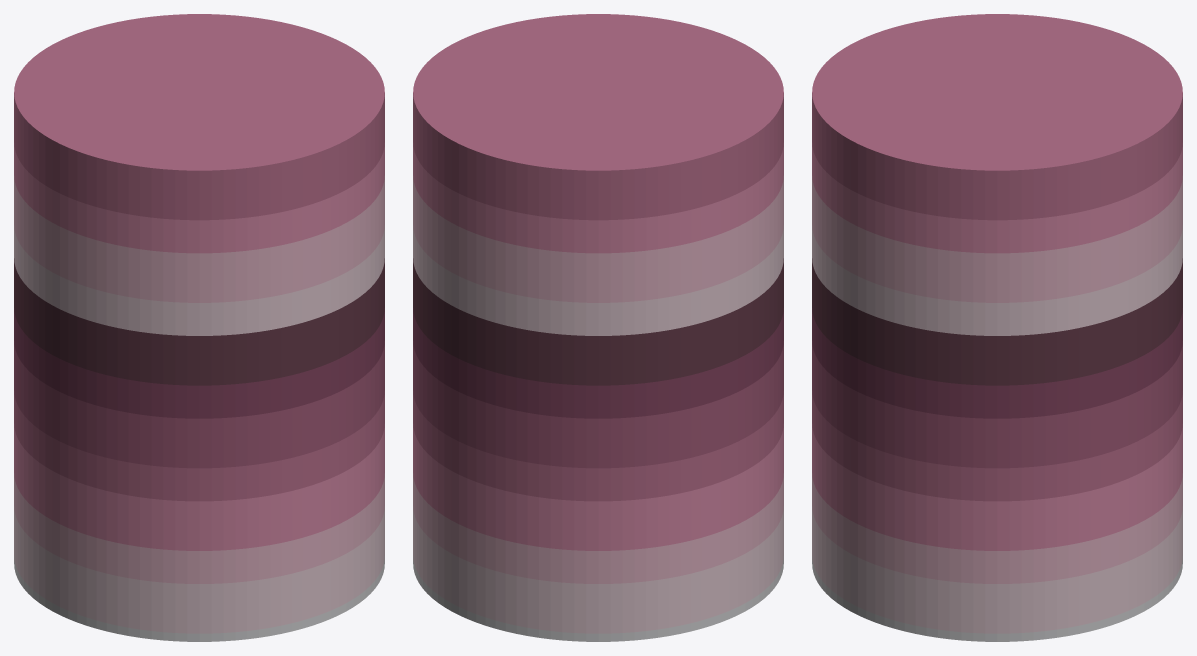
The model's file is cake_8in_layers6.glb.
The picture shows the model from 3 angles, left to right: view 1: azimuth 30°, elevation 25°; view 2: azimuth 150°, elevation 25°; view 3: azimuth 270°, elevation 25°; orthographic projection.
Visible parts, largest first — view 1: geometry_10, geometry_4, geometry_0, geometry_6, geometry_8, geometry_2, geometry_5, geometry_9, geometry_3, geometry_7, geometry_1, geometry_11; view 2: geometry_10, geometry_4, geometry_0, geometry_6, geometry_8, geometry_2, geometry_5, geometry_9, geometry_3, geometry_7, geometry_1, geometry_11; view 3: geometry_10, geometry_4, geometry_0, geometry_6, geometry_8, geometry_2, geometry_5, geometry_9, geometry_3, geometry_7, geometry_1, geometry_11.
Boxes of the visible parts, bbox=[...] form: geometry_10: bbox=[14, 14, 384, 220]; geometry_4: bbox=[14, 341, 384, 468]; geometry_0: bbox=[14, 506, 384, 633]; geometry_6: bbox=[14, 258, 384, 385]; geometry_8: bbox=[14, 176, 384, 302]; geometry_2: bbox=[14, 424, 384, 550]; geometry_5: bbox=[14, 308, 384, 418]; geometry_9: bbox=[14, 143, 384, 253]; geometry_3: bbox=[14, 391, 384, 501]; geometry_7: bbox=[14, 225, 384, 335]; geometry_1: bbox=[14, 473, 384, 583]; geometry_11: bbox=[14, 556, 384, 641]; geometry_10: bbox=[413, 14, 783, 220]; geometry_4: bbox=[413, 341, 783, 468]; geometry_0: bbox=[413, 506, 783, 633]; geometry_6: bbox=[413, 258, 783, 385]; geometry_8: bbox=[413, 176, 783, 302]; geometry_2: bbox=[413, 424, 783, 550]; geometry_5: bbox=[413, 308, 783, 418]; geometry_9: bbox=[413, 143, 783, 253]; geometry_3: bbox=[413, 391, 783, 501]; geometry_7: bbox=[413, 225, 783, 335]; geometry_1: bbox=[413, 473, 783, 583]; geometry_11: bbox=[413, 556, 783, 641]; geometry_10: bbox=[812, 14, 1182, 220]; geometry_4: bbox=[812, 341, 1182, 468]; geometry_0: bbox=[812, 506, 1182, 633]; geometry_6: bbox=[812, 258, 1182, 385]; geometry_8: bbox=[812, 176, 1182, 302]; geometry_2: bbox=[812, 424, 1182, 550]; geometry_5: bbox=[812, 308, 1182, 418]; geometry_9: bbox=[812, 143, 1182, 253]; geometry_3: bbox=[812, 391, 1182, 501]; geometry_7: bbox=[812, 225, 1182, 335]; geometry_1: bbox=[812, 473, 1182, 583]; geometry_11: bbox=[812, 556, 1182, 641].
Size of the model in its own units: 0.2032 by 0.285 by 0.2032.
